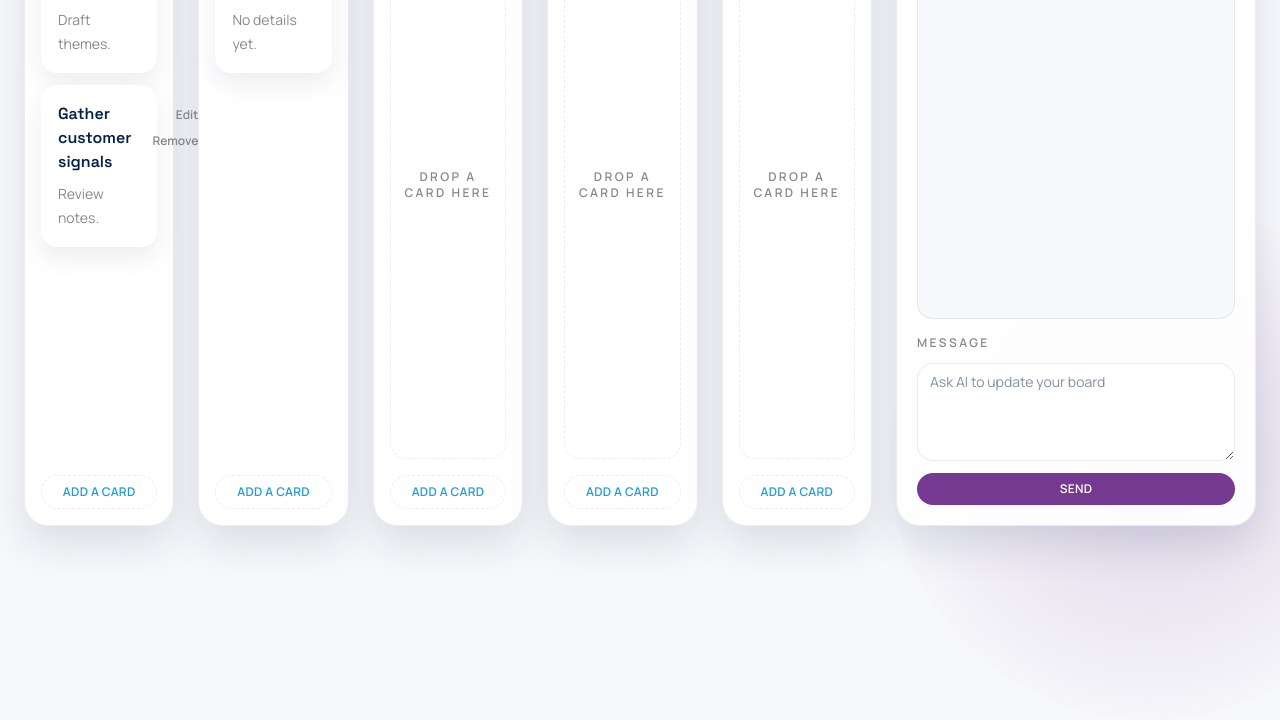
Test: cards › adds a card through the API
(page scrolled)
Click the 1st button "Add a card" at [99, 492], box x1=41 y1=475 x2=157 y2=509
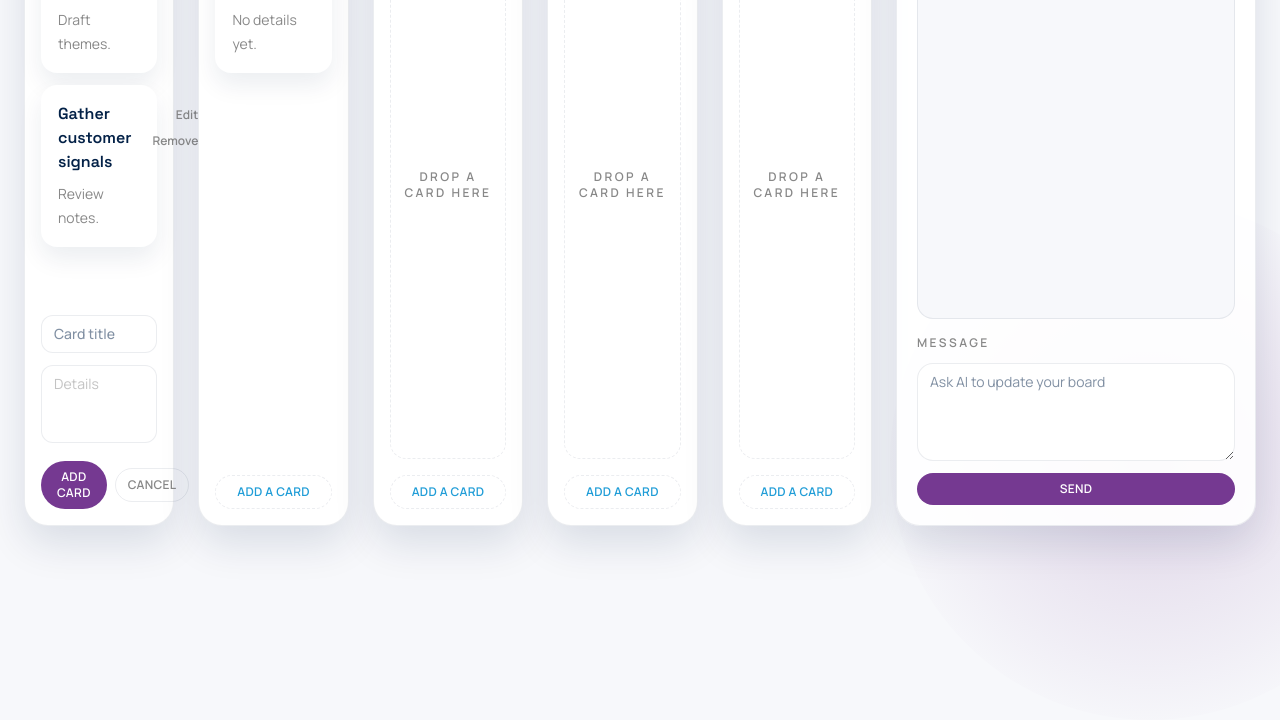
Type "New card" into the field with placeholder "Card title" at [99, 334], box x1=41 y1=315 x2=157 y2=353
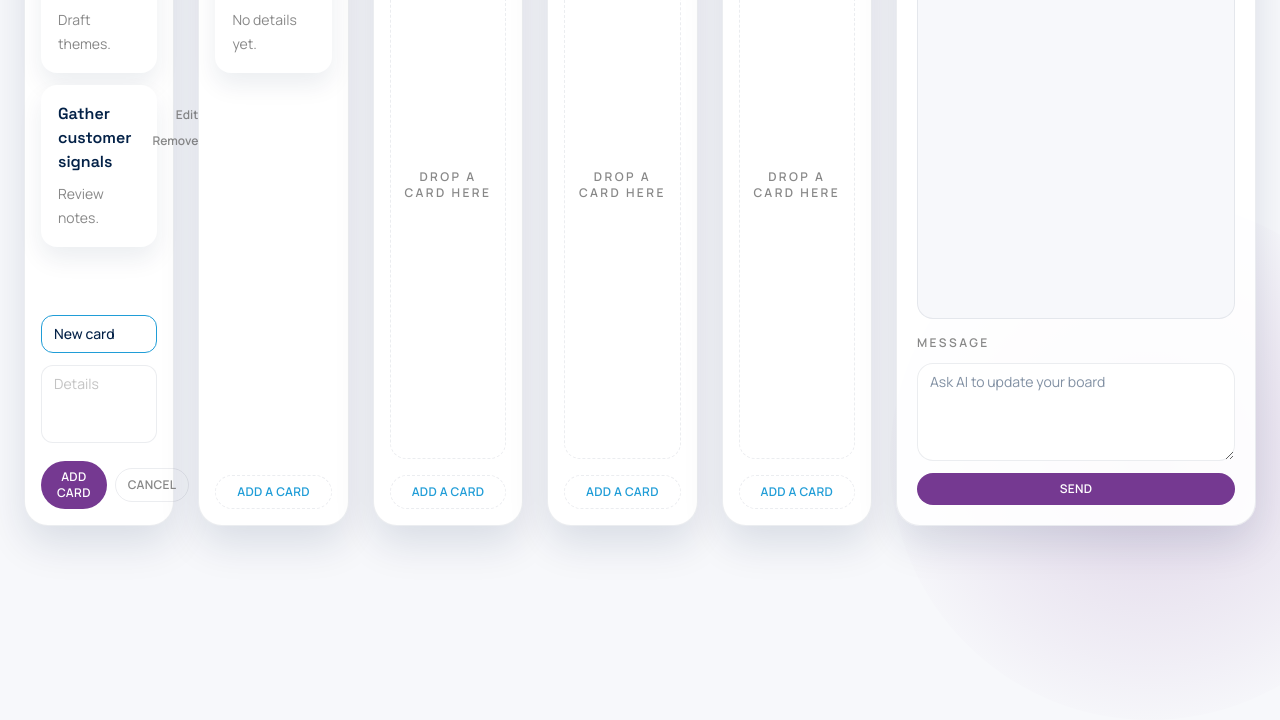
Type "Notes" into the text box with placeholder "Details" at [99, 404], box x1=41 y1=365 x2=157 y2=443
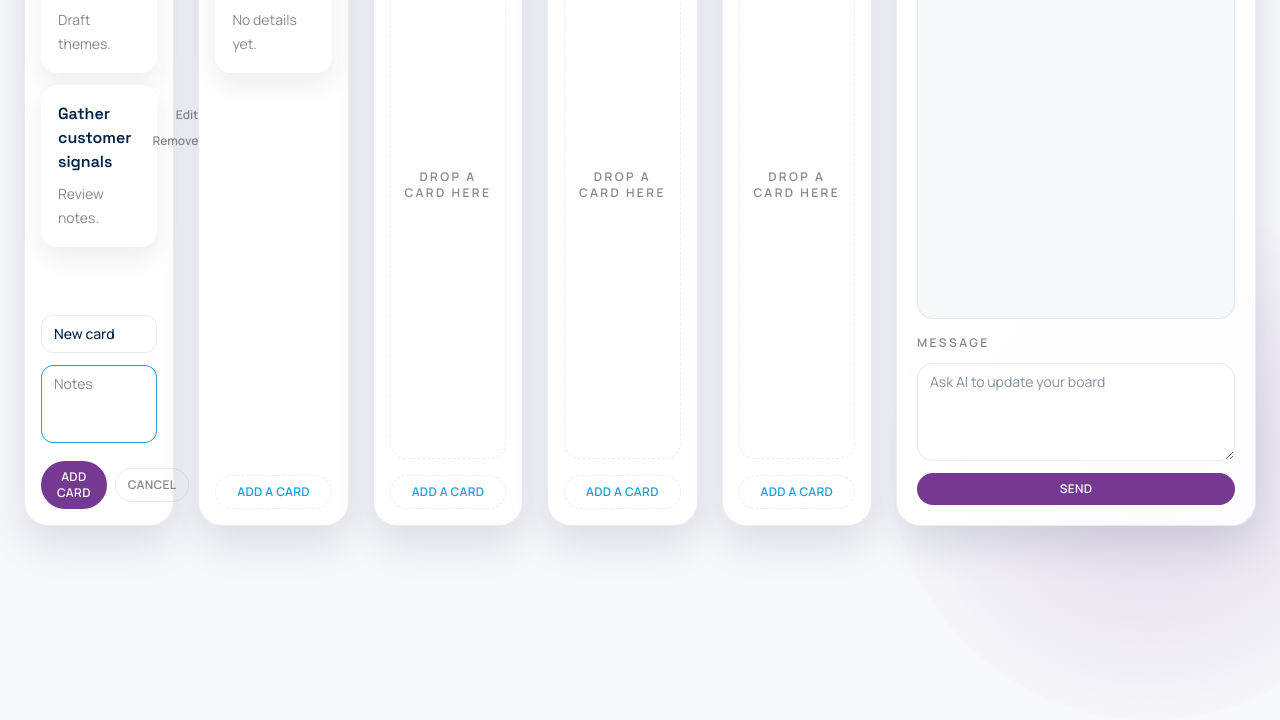
Click the button "Add card" at [74, 485], box x1=41 y1=461 x2=107 y2=509
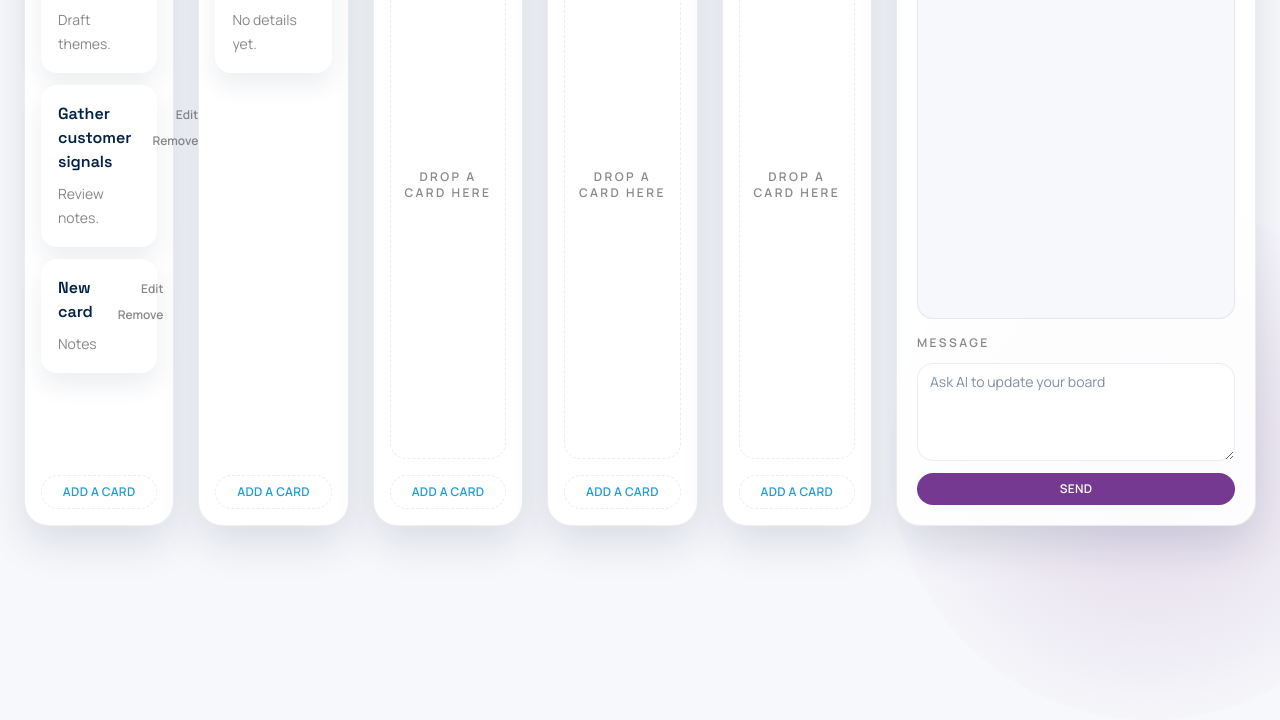
Check: the heading "New card" is shown, box x1=58 y1=276 x2=97 y2=324
Check: the button with test id "card-card-100" is shown, box x1=41 y1=259 x2=157 y2=373
